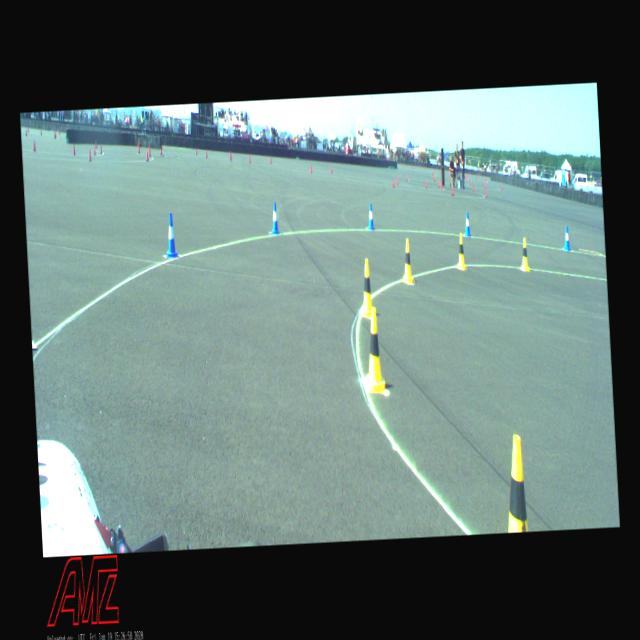blue_cone: (164, 212, 178, 257), (270, 201, 280, 234), (367, 202, 375, 230), (562, 226, 570, 250), (464, 212, 471, 237)
yellow_cone: (504, 434, 528, 533), (362, 307, 387, 393), (359, 259, 373, 318), (400, 238, 414, 284), (519, 238, 530, 272), (456, 233, 466, 270)
